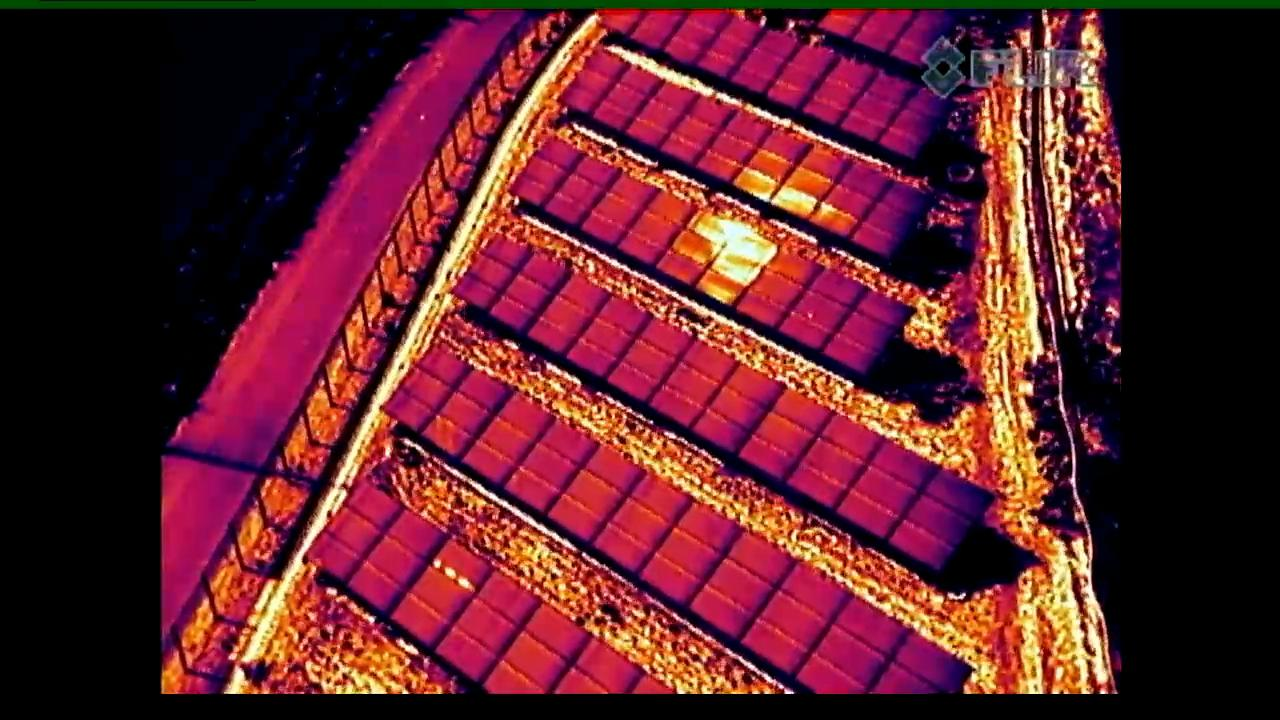hotspot: (384, 539, 490, 644)
